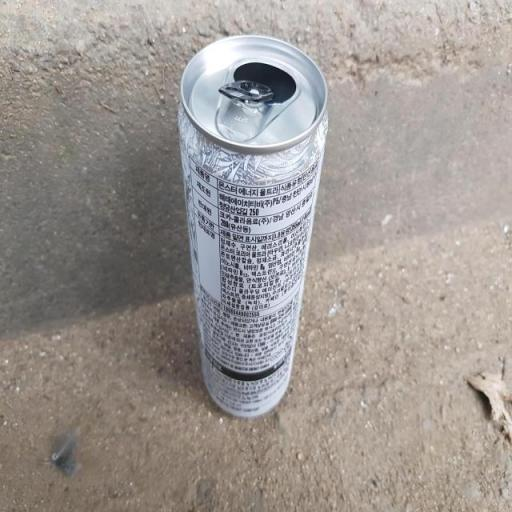metal: (142, 7, 356, 445)
